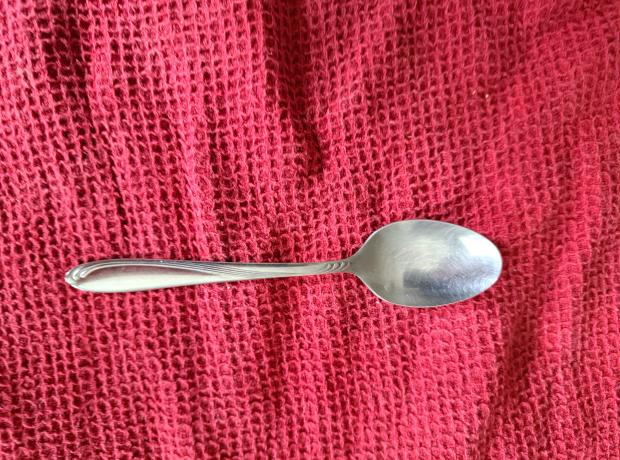metal: (56, 216, 504, 318)
